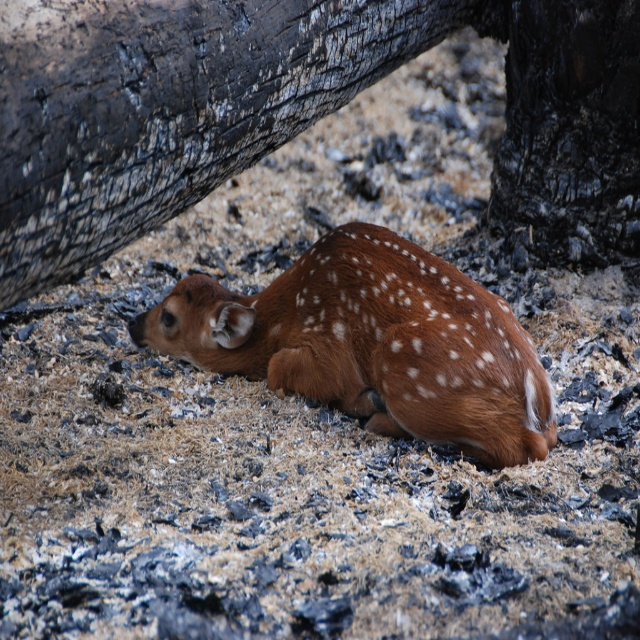Deer: (124, 222, 555, 454)
